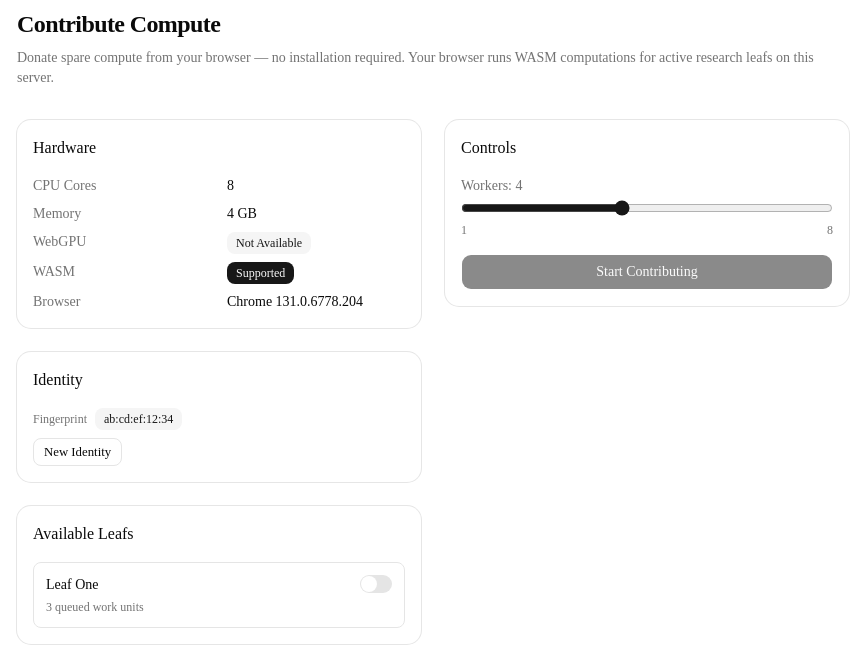
Test case: ContributePage proof-of-work wiring › cancels an in-flight solve on unmount
This screenshot has width=867, height=662.
Click the switch named "Enable Leaf One". click: click(376, 584)
box: [360,575,392,593]
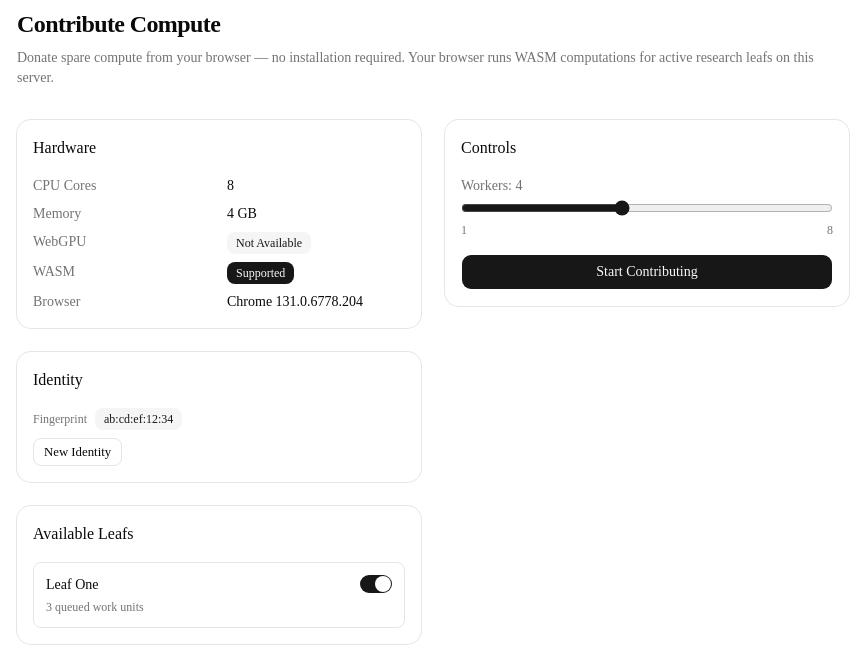
Expected: the button "Start Contributing" is enabled
Click the button "Start Contributing". click: click(647, 272)
box: [461,254,833,290]
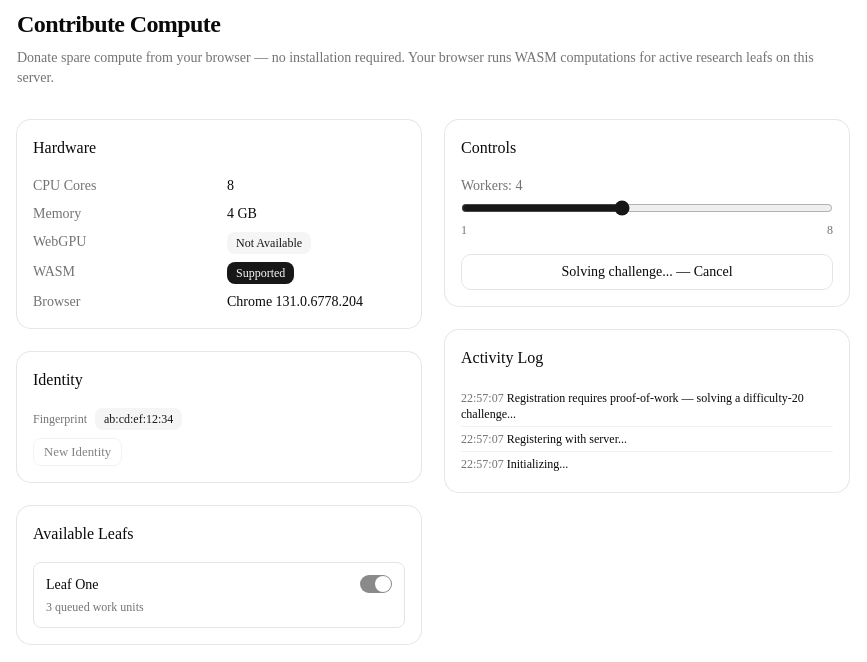
Expected: the button "Solving challenge... — Cancel" is shown, [461,254,833,290]
